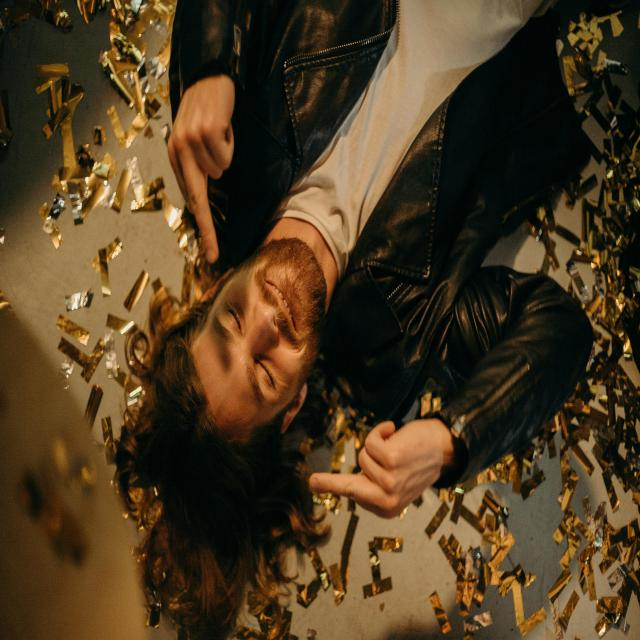lie: (101, 0, 640, 527)
